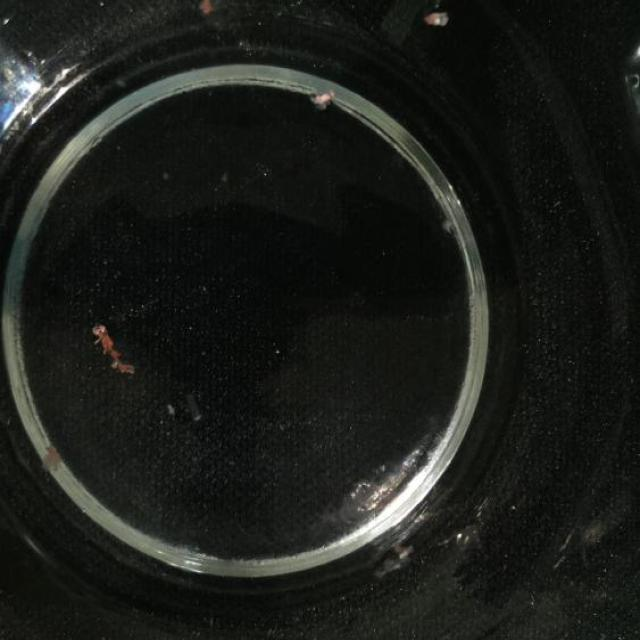fiber: (89, 316, 134, 374), (310, 85, 344, 114), (423, 11, 458, 30), (202, 0, 215, 19)
